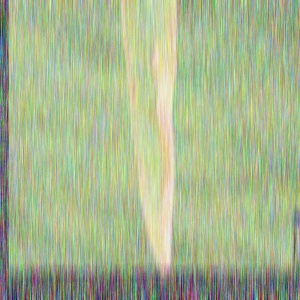Leaf_Blast: (117, 0, 182, 271)
